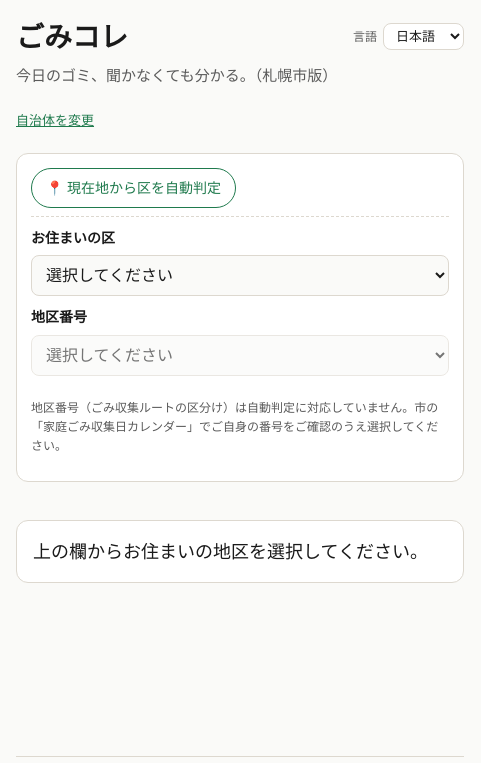
Test case: App › finds a category by item name in the item search and reads the answer aloud
Select "中央区" in the dropdown labelled "お住まいの区" at (240, 276), box [31,255,449,296]
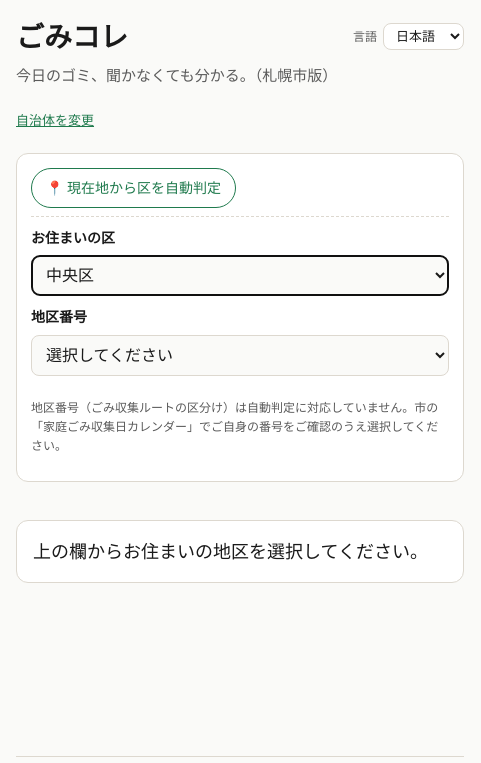
Select "第1地区" in the dropdown labelled "地区番号" at (240, 355), box [31,335,449,376]
(page scrolled)
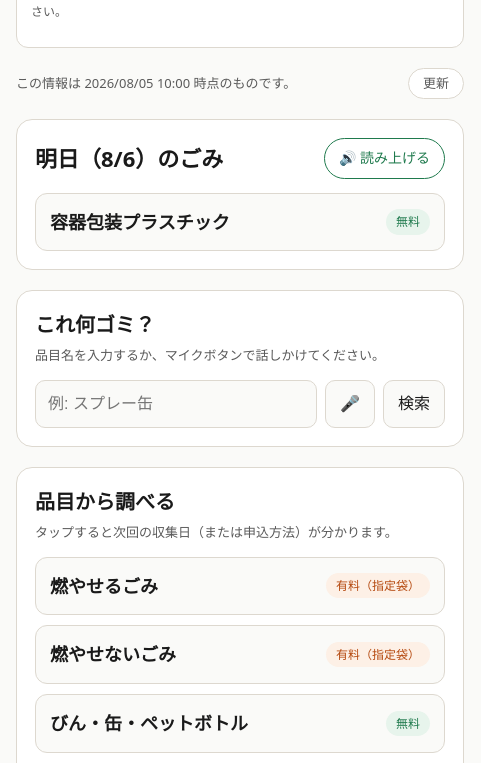
Type "スプレー缶" into the field with placeholder "例: スプレー缶" at (176, 404), box [35,380,317,428]
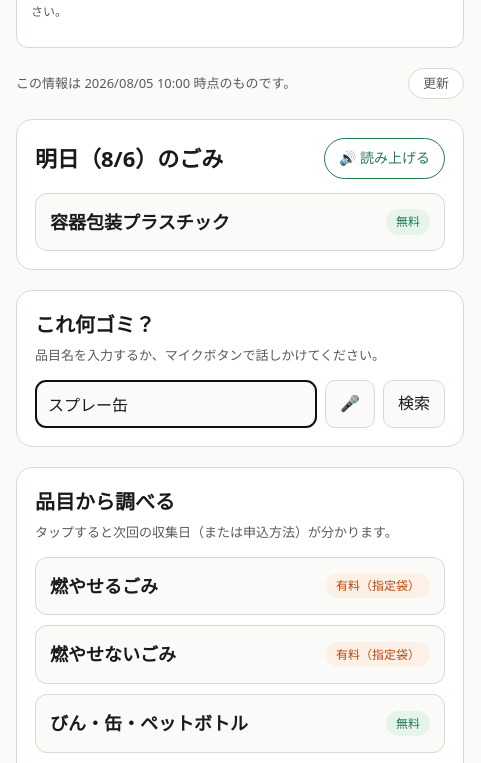
Click the button "検索" at (414, 404), box [383,380,445,428]
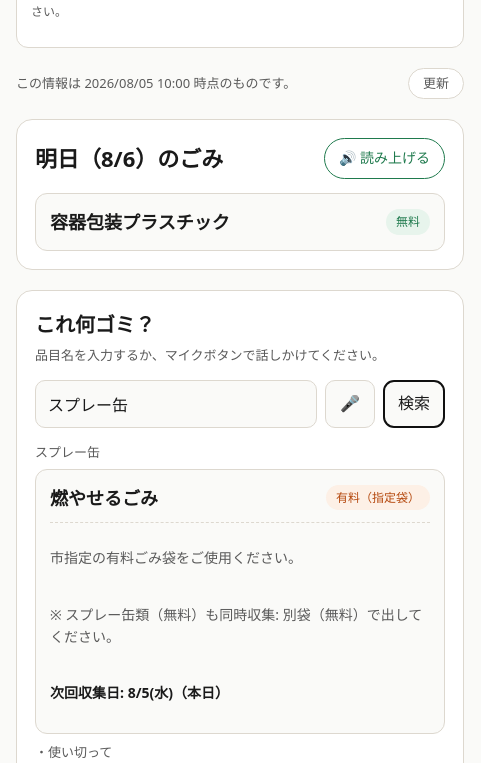
Now the text "燃やせるごみ" is shown, box [50,484,158,512]
